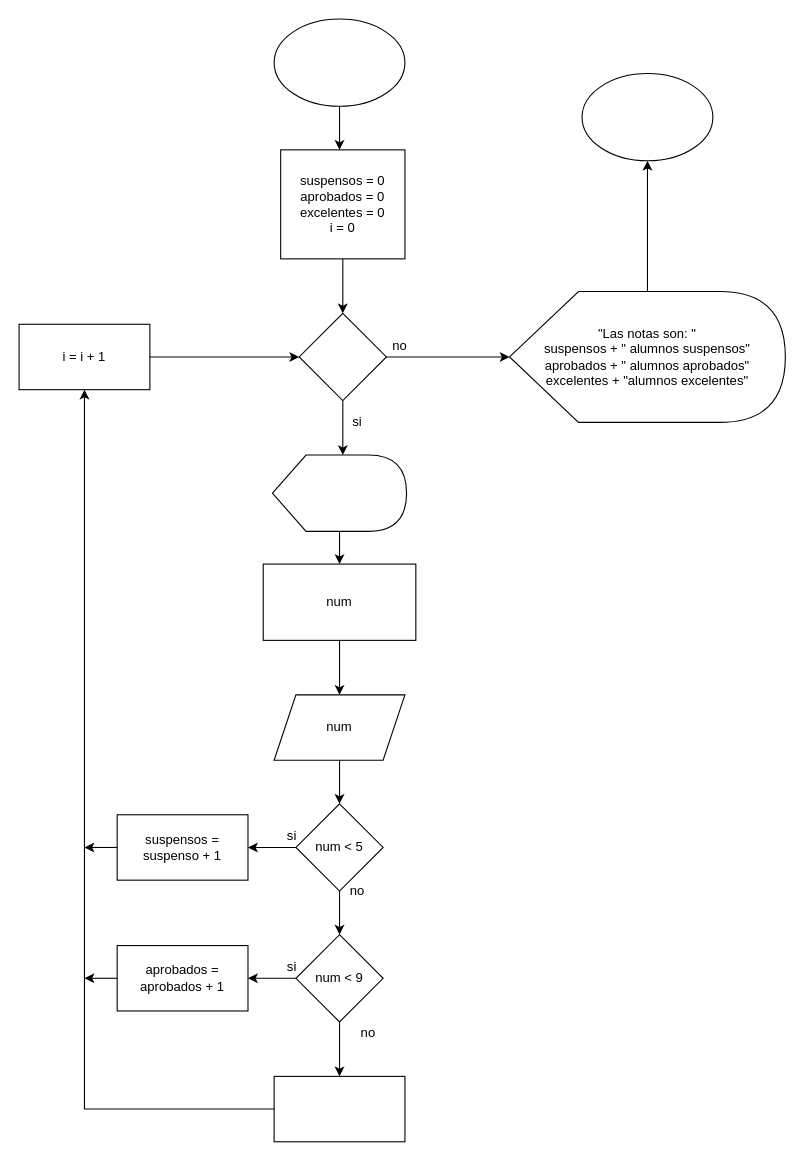
This 804x1161 diagram has some shape labels left out. The shapes that lost their labels are listed below. From the top down, each one's centre as x and y in pixels, then its label:
point 339,62: Inicio
point 647,116: Fin
point 342,356: i < 6
point 339,492: "Introduce una nota: "
point 339,1108: excelentes = excelentes + 1
